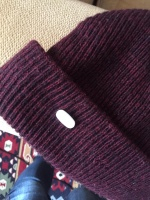Centik Buskopan: (55, 108, 76, 130)
